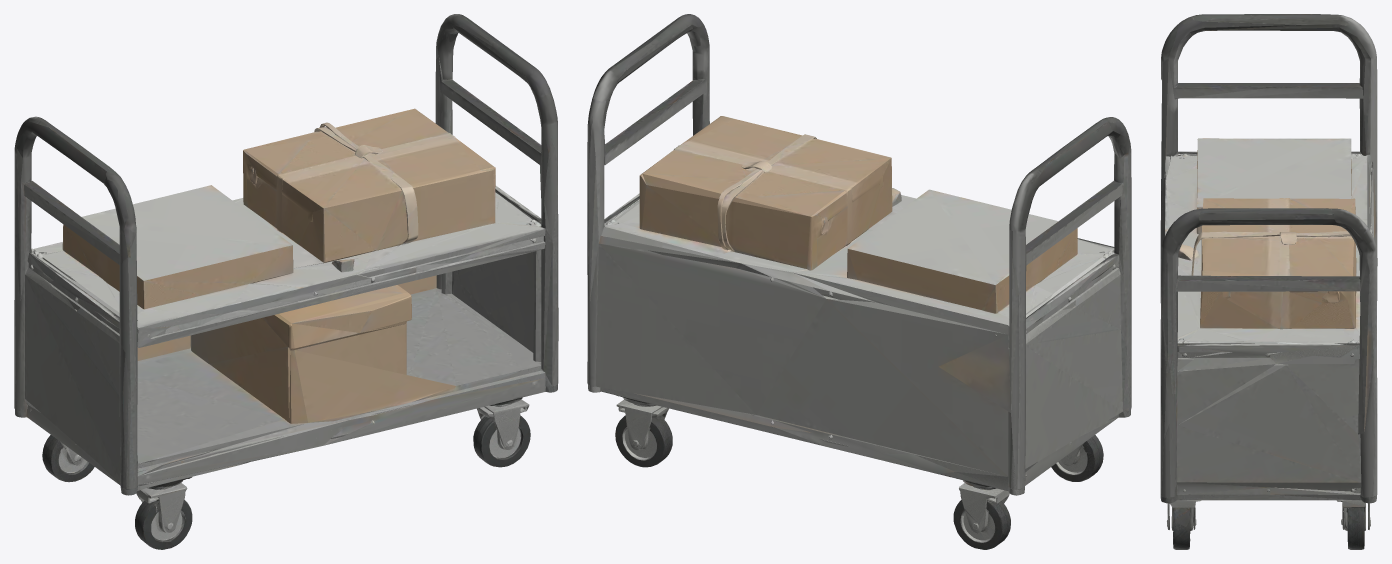
File: collectionCart.glb
3 renders of one model, left to right at view 1: azimuth 30°, elevation 25°; view 2: azimuth 150°, elevation 25°; view 3: azimuth 270°, elevation 25°, orthographic. The views are drawn at different scales.
Size of the model in its own units: 1.9 by 1.58 by 0.8688.
Materials: 1 (1 with a texture image).
